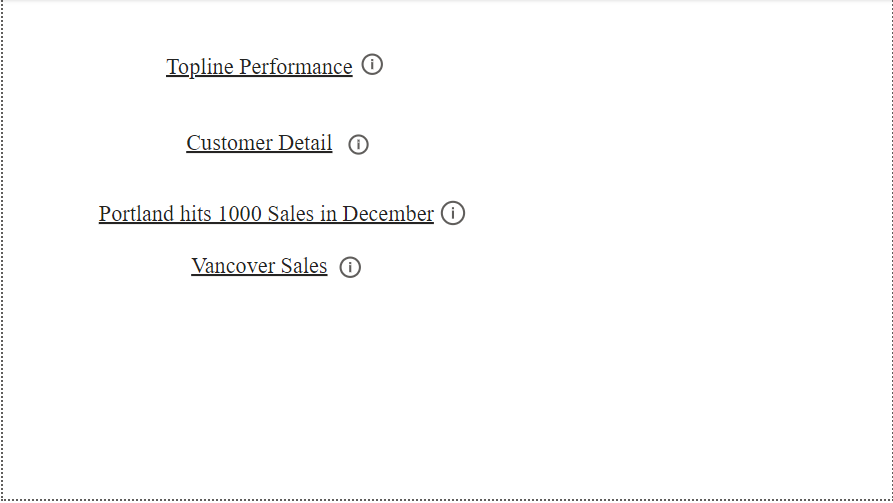

Layout of this report page (visuals, bound fields, positions):
{"tool":"powerbi","page":{"name":"Notes","canvas":[1280,720],"ordinal":4},"visuals":[{"type":"textbox","box":[0,73.5,738.3,80.3],"z":0},{"type":"actionButton","box":[511,73.5,87.2,41],"z":1000},{"type":"textbox","box":[0,182.9,738.3,92.3],"z":2000},{"type":"actionButton","box":[492.2,189.7,78.6,39.3],"z":3000},{"type":"textbox","box":[10,285.1,738.3,80.3],"z":3001},{"type":"actionButton","box":[625.5,285.4,68.4,46.1],"z":3002},{"type":"textbox","box":[0,360.6,738.3,80.3],"z":3003},{"type":"actionButton","box":[480.2,365.7,100.8,41],"z":3004}]}

Visuals, with their boxes in screenshot pixels (x1, y1, x2, y2), scaled from the page's 1280x720 canvas onto the 893x503 screenshot:
textbox: x1=0 y1=51 x2=515 y2=107
actionButton: x1=357 y1=51 x2=417 y2=80
textbox: x1=0 y1=128 x2=515 y2=192
actionButton: x1=343 y1=133 x2=398 y2=160
textbox: x1=7 y1=199 x2=522 y2=255
actionButton: x1=436 y1=199 x2=484 y2=232
textbox: x1=0 y1=252 x2=515 y2=308
actionButton: x1=335 y1=255 x2=405 y2=284
